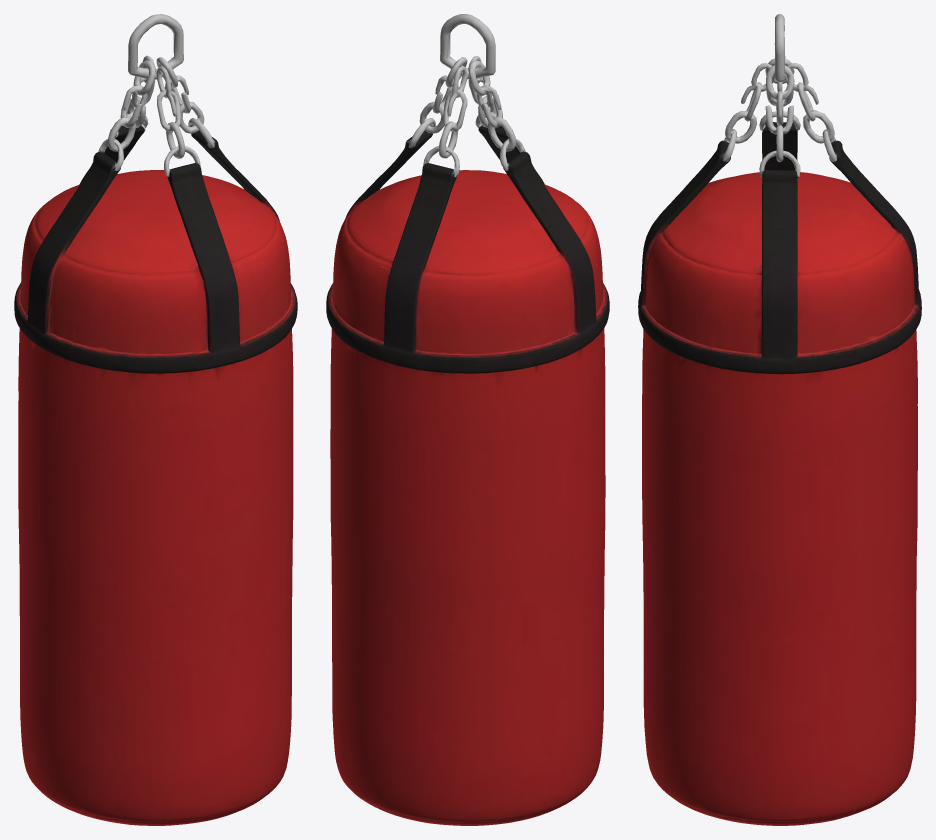
Rendered from 02-saco.glb.
3 renders of one model, left to right at view 1: azimuth 30°, elevation 25°; view 2: azimuth 150°, elevation 25°; view 3: azimuth 270°, elevation 25°, orthographic.
Visible parts, largest first — view 1: tripo_node_60bb7d4c-9d29-4f59-9cf1-31fdbcd4bcf1; view 2: tripo_node_60bb7d4c-9d29-4f59-9cf1-31fdbcd4bcf1; view 3: tripo_node_60bb7d4c-9d29-4f59-9cf1-31fdbcd4bcf1.
Part boxes in pixels (left/top/right/bottom): tripo_node_60bb7d4c-9d29-4f59-9cf1-31fdbcd4bcf1: left=14, top=14, right=297, bottom=825; tripo_node_60bb7d4c-9d29-4f59-9cf1-31fdbcd4bcf1: left=326, top=14, right=609, bottom=825; tripo_node_60bb7d4c-9d29-4f59-9cf1-31fdbcd4bcf1: left=638, top=14, right=921, bottom=825.
Bounding box in the file's own units: 0.3324 × 1 × 0.3343.
1 material, 1 textured.
